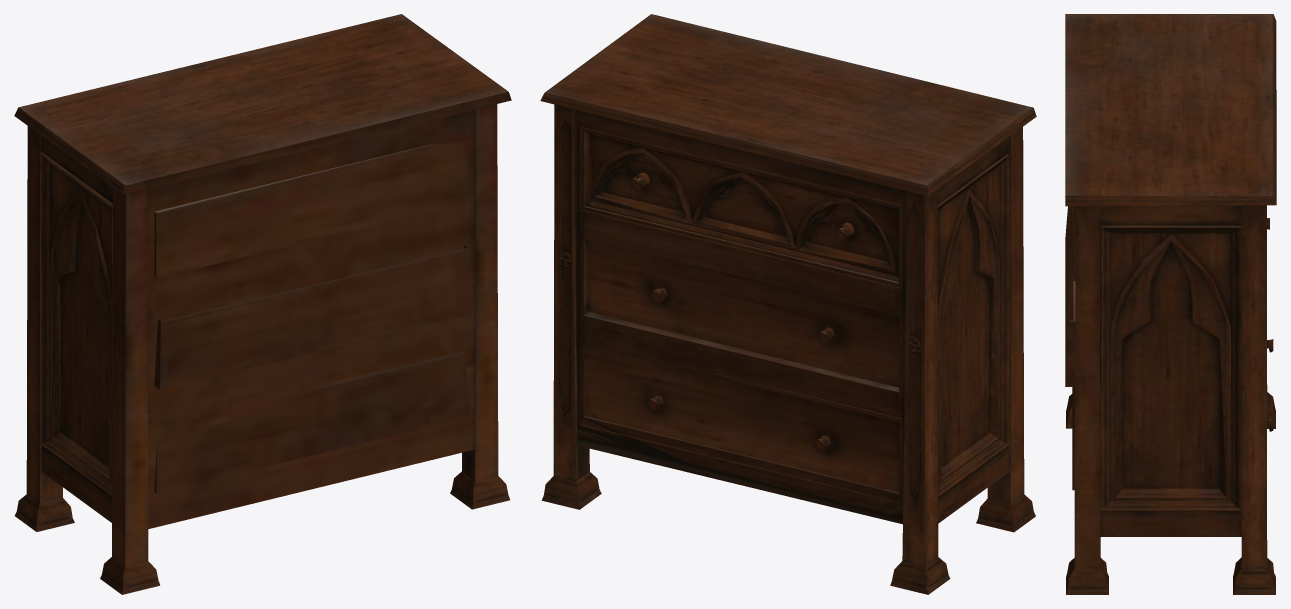
File: chest-gothic-commode.lod1.glb
The picture shows the model from 3 angles, left to right: view 1: azimuth 30°, elevation 25°; view 2: azimuth 150°, elevation 25°; view 3: azimuth 270°, elevation 25°; orthographic projection. The views are drawn at different scales.
Visible parts, largest first — view 1: chest-gothic-commode; view 2: chest-gothic-commode; view 3: chest-gothic-commode.
Boxes of the visible parts, box(x1,y1,x2,y2) form: chest-gothic-commode: box(14, 14, 511, 594); chest-gothic-commode: box(540, 14, 1036, 594); chest-gothic-commode: box(1065, 14, 1276, 594).
Bounding box in the file's own units: 1.2 × 1.2 × 0.5779.
Materials: 1 (1 with a texture image).
